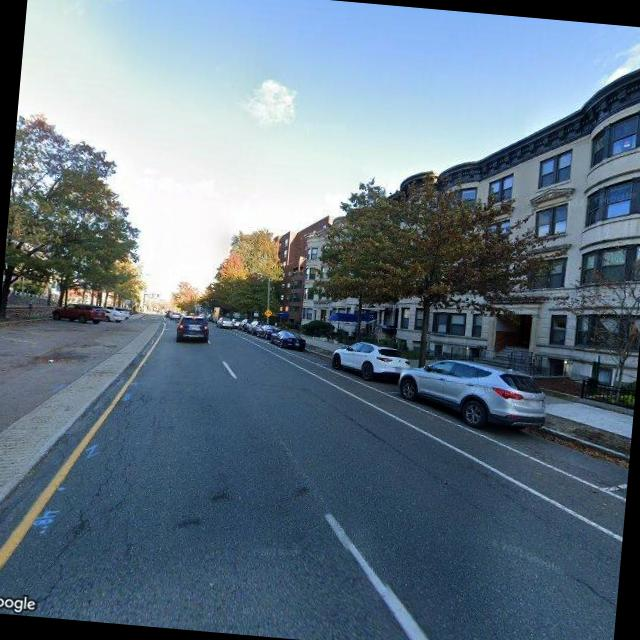crack: (27, 420, 135, 610)
